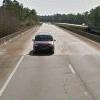cars: (31, 30, 58, 56)
